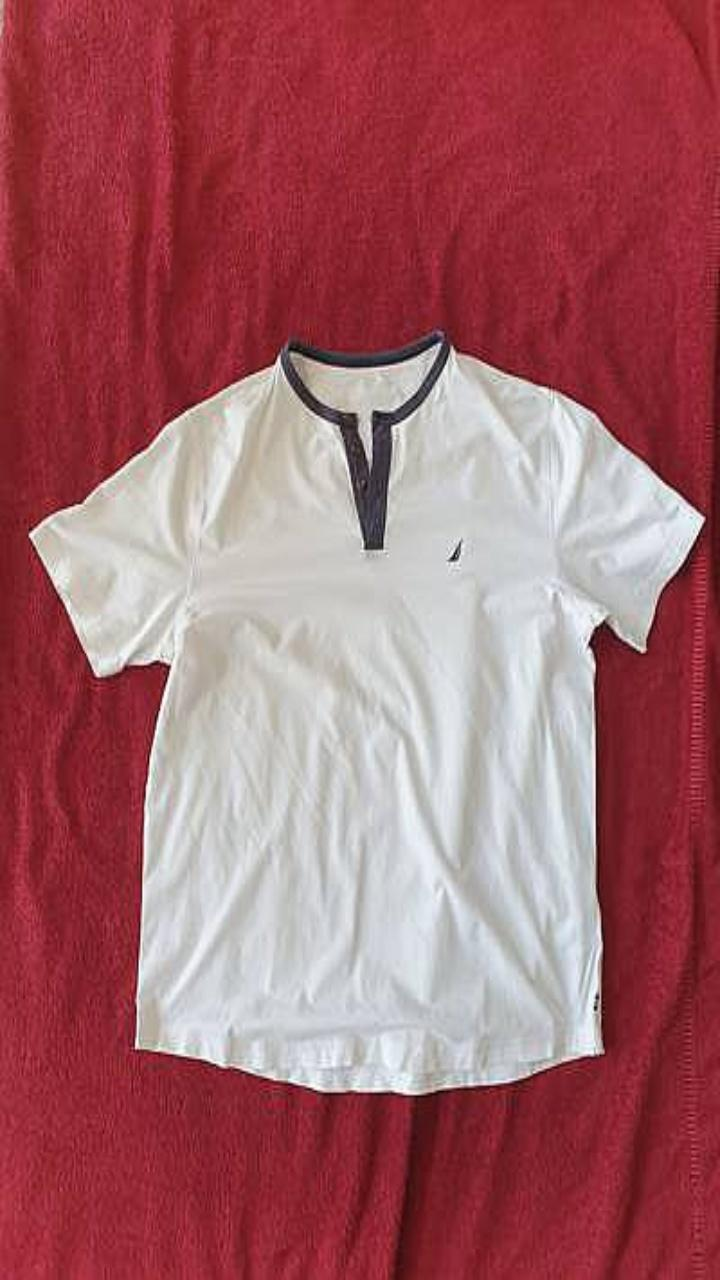T-Shirt: (29, 329, 704, 1093)
